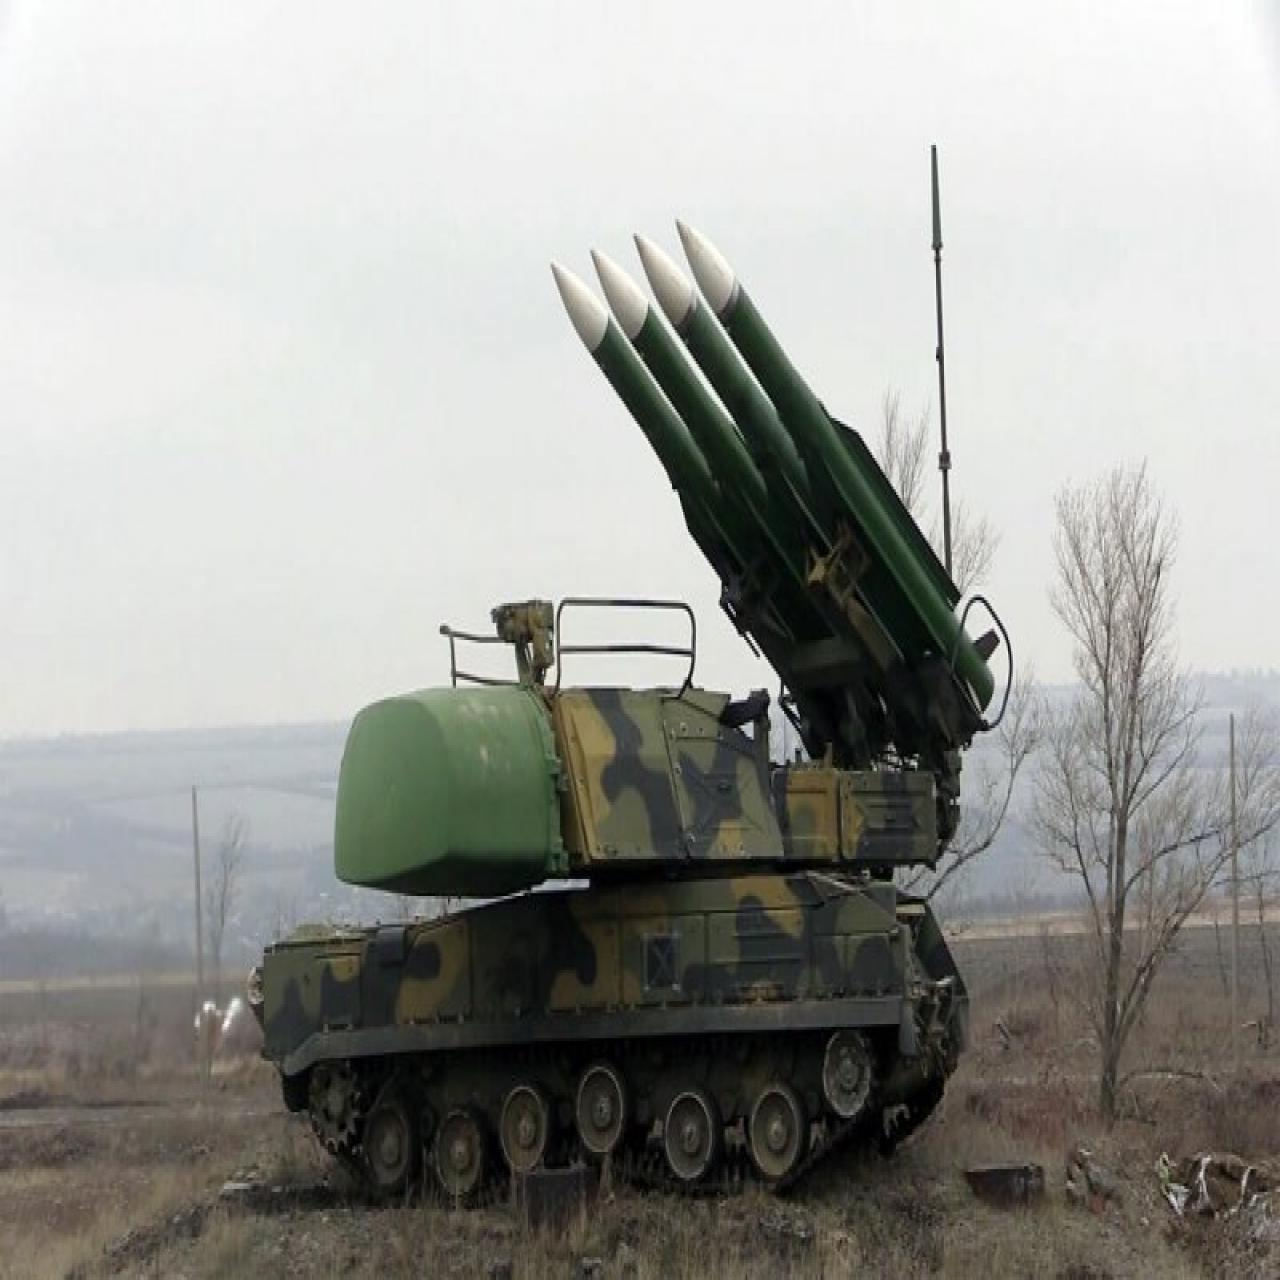MIL_Veh: (248, 220, 980, 1177)
